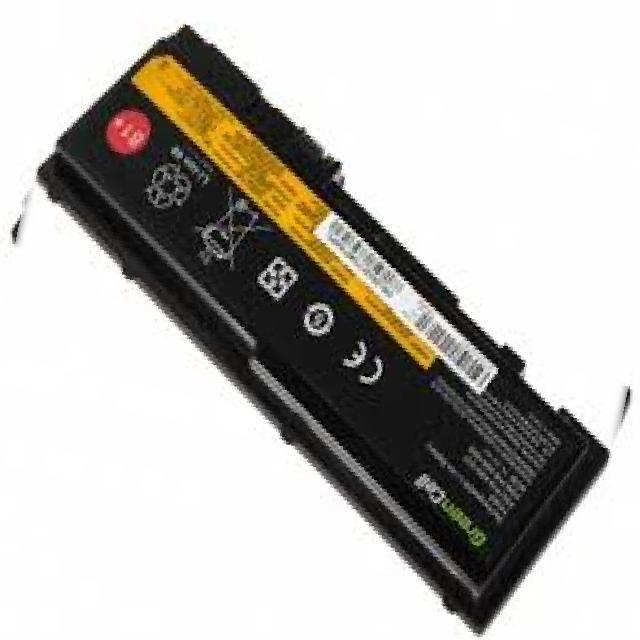Battery: (23, 15, 640, 640)
